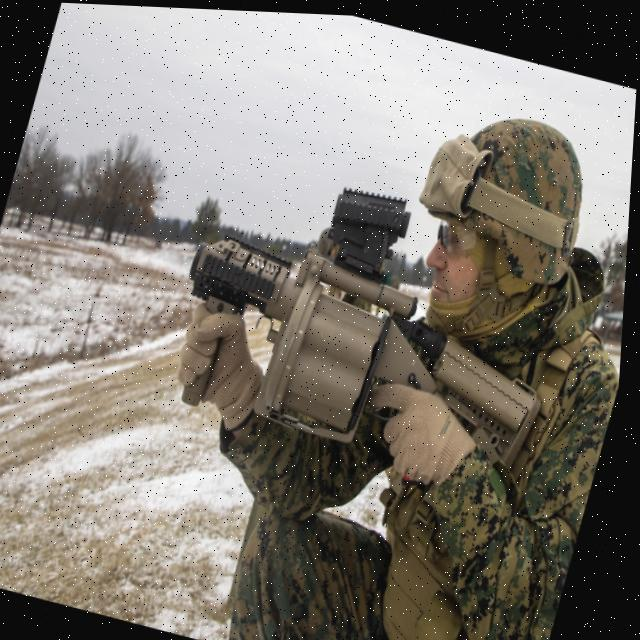rocket: (153, 140, 595, 489)
